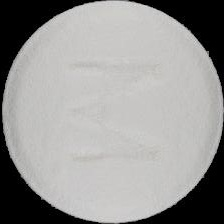0378-0443: (0, 0, 224, 224)
